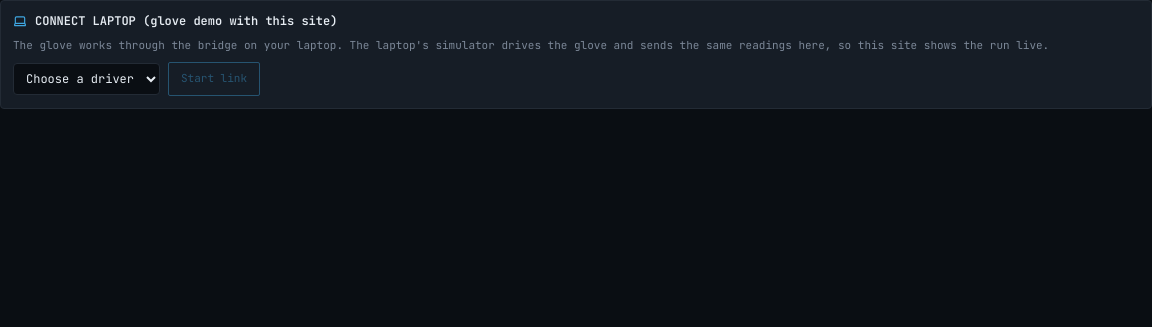
Test: LaptopLinkPanel › starts a link for the chosen driver and shows the lines with the token hidden until asked
The width and height of the screenshot is (1152, 327).
Select "Ana" in the dropdown with test id "laptop-link-driver". click: (86, 78)
box: [13,62,160,94]
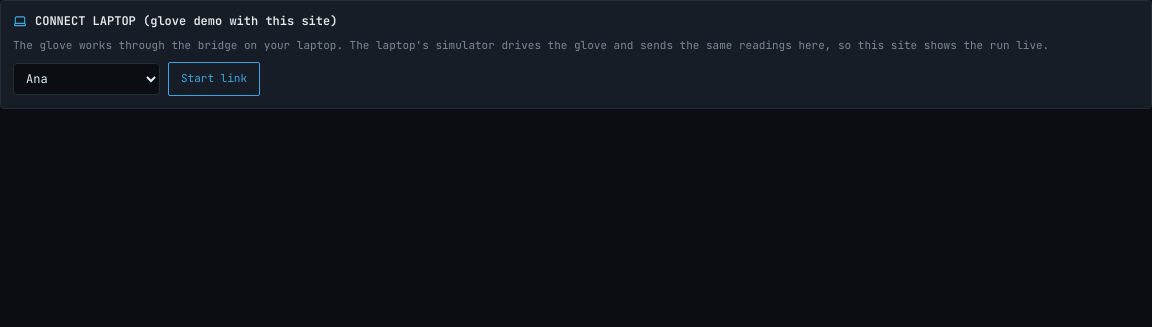
Click the button with test id "laptop-link-start". click: (214, 78)
box: [168,62,260,96]
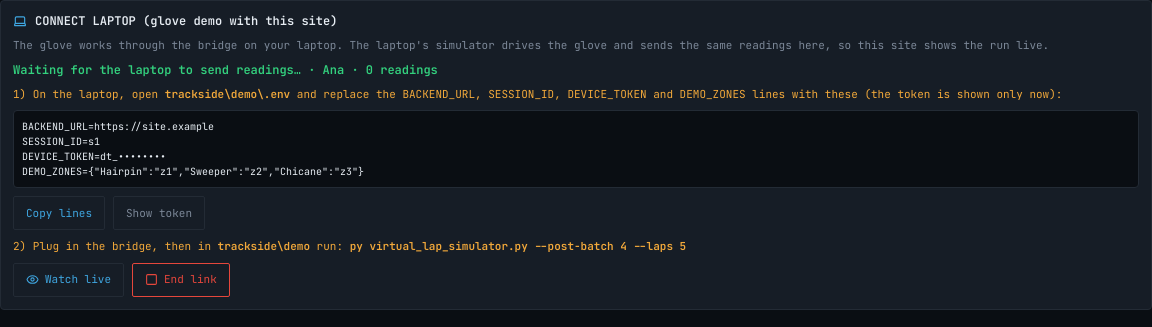
Now the text with test id "laptop-link-env" is shown, box [13,110,1139,188]
Now the text with test id "laptop-link-env" shows "BACKEND_URL=https://site.example", box [22,120,364,178]
Now the text with test id "laptop-link-env" shows "SESSION_ID=s1", box [22,120,364,178]
Click the button "Show token". click: (159, 213)
box: [113,196,205,230]
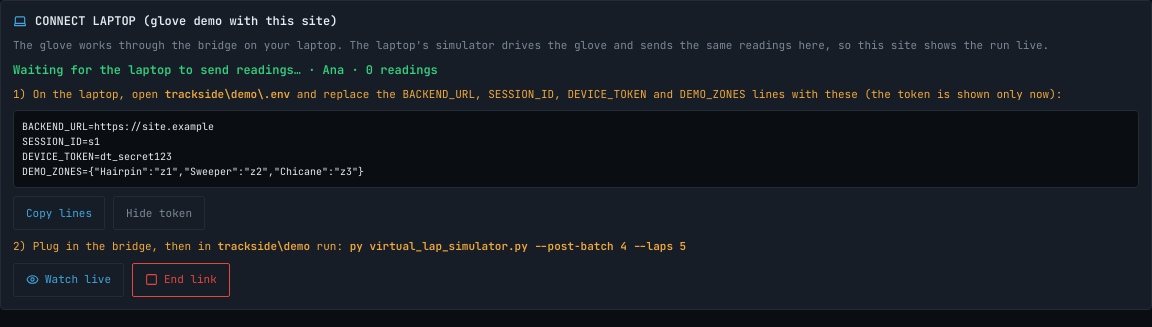
Now the text with test id "laptop-link-env" shows "DEVICE_TOKEN=dt_secret123", box [22,120,364,178]
